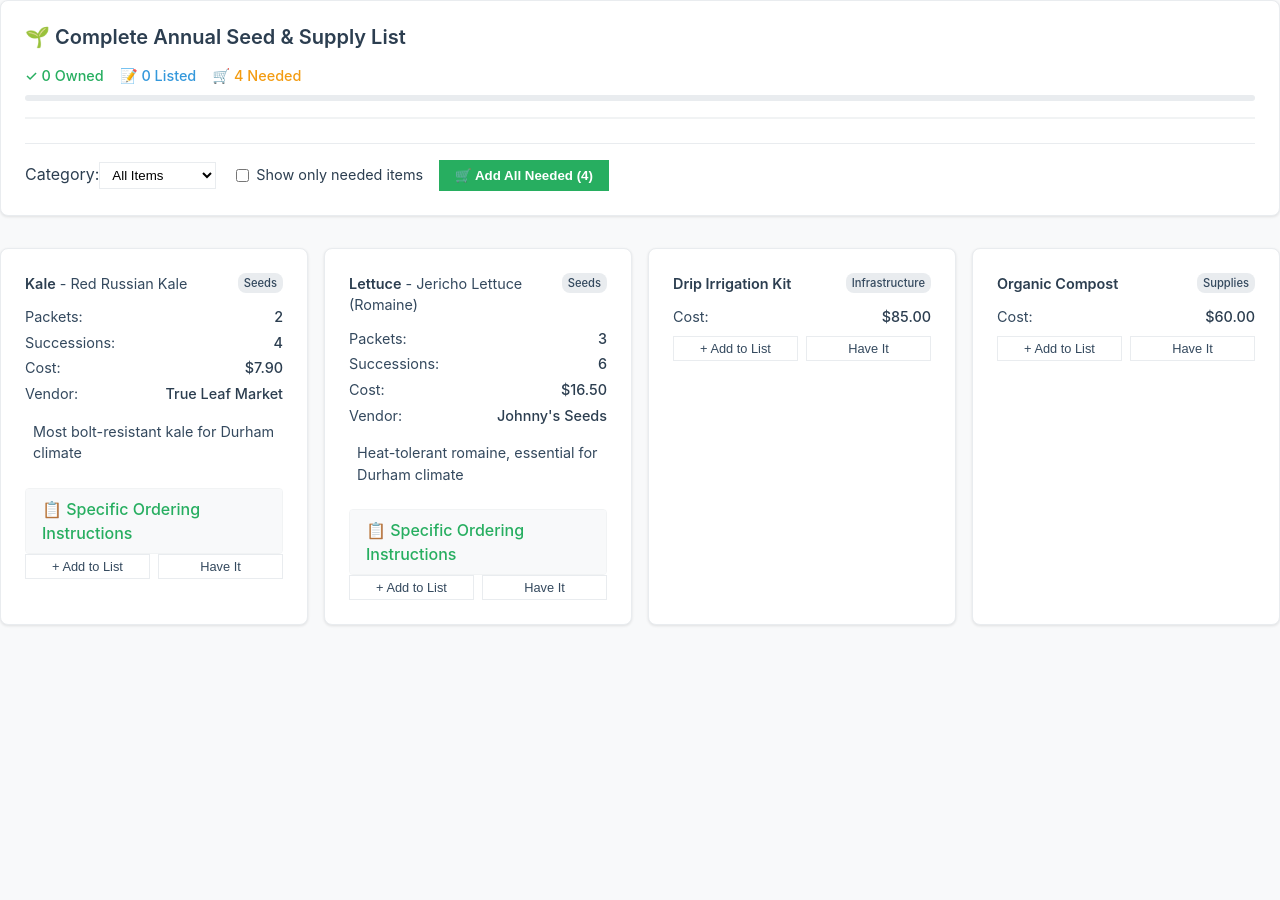
Test: AnnualSeedPlanPanel › Specific Ordering Instructions › expands and shows detailed instructions when clicked
Click the heading "📋 Specific Ordering Instructions" below "True Leaf Market". click: [154, 521]
box: [26, 489, 282, 553]
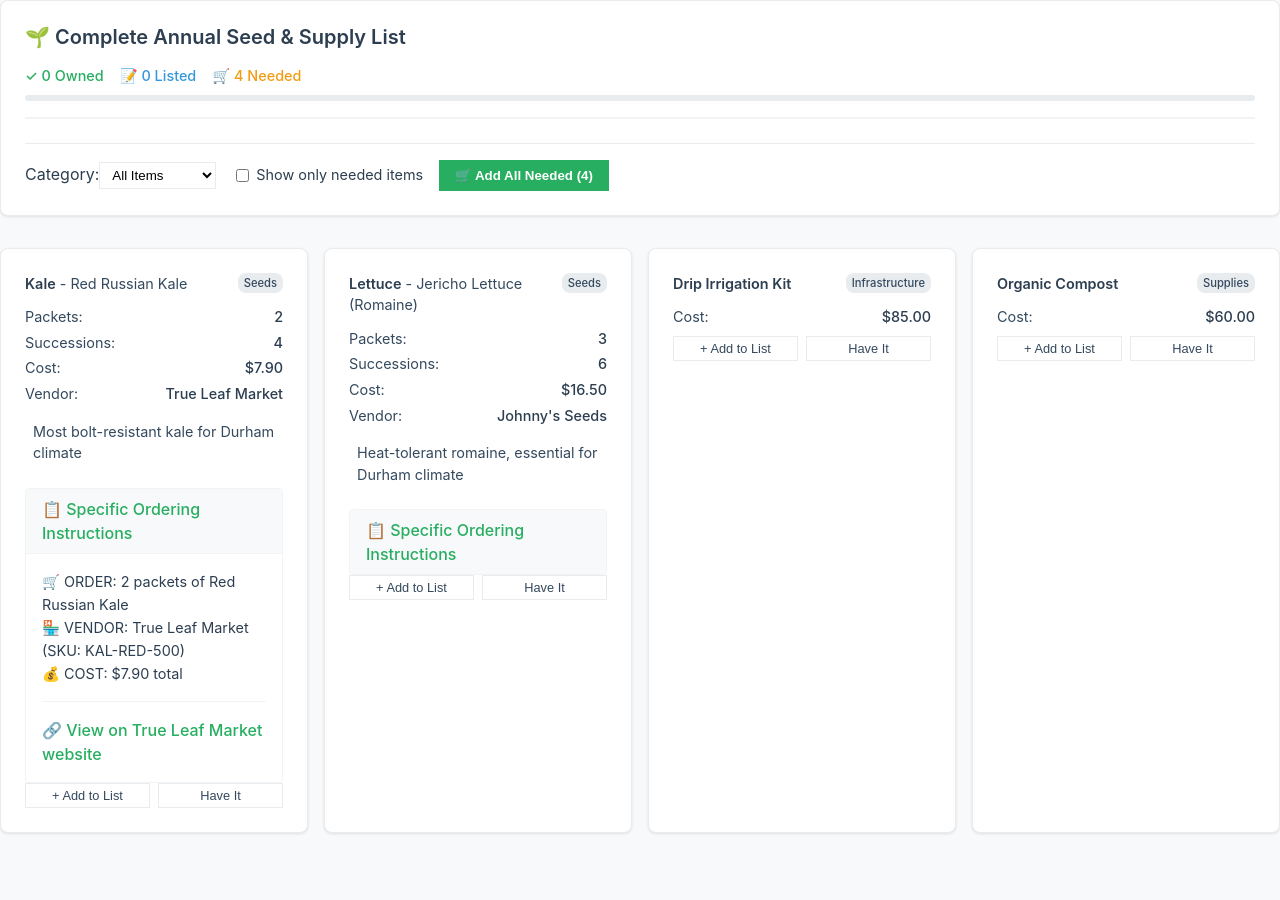
Result: the text "💰 COST: $7.90 total" is shown at [42, 573, 253, 682]
